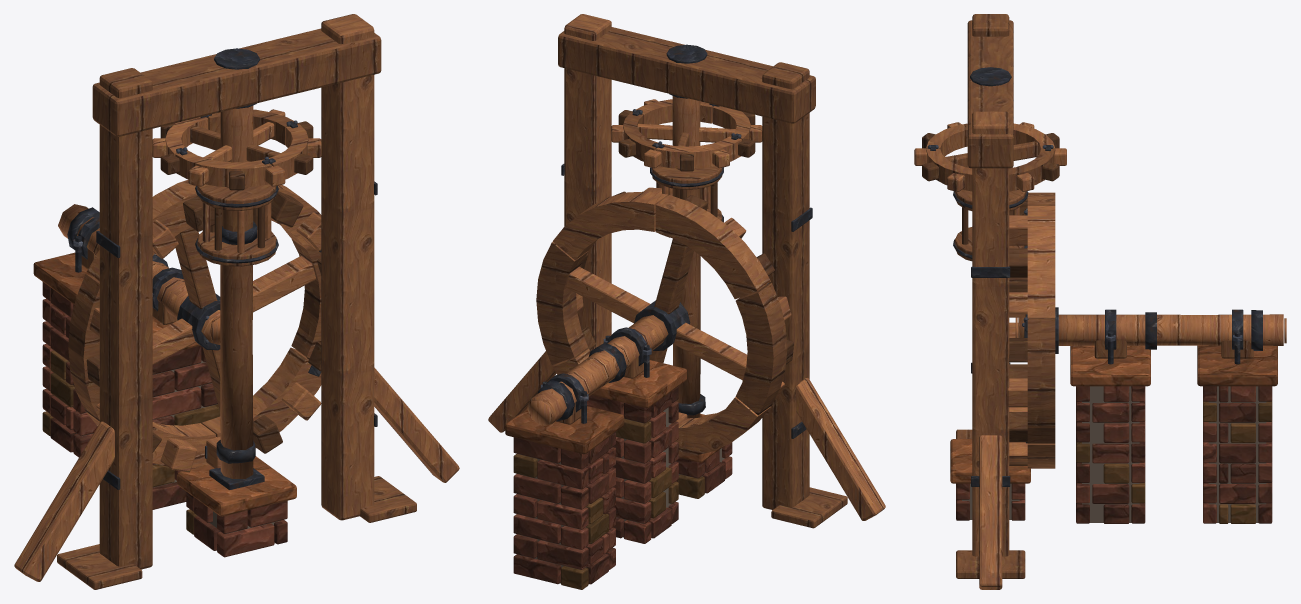
Rendered from hw_gear_train.glb.
3 views of the same model, side by side, from view 1: azimuth 30°, elevation 25°; view 2: azimuth 150°, elevation 25°; view 3: azimuth 270°, elevation 25° (orthographic). The views are drawn at different scales.
Visible parts, largest first — view 1: model; view 2: model; view 3: model.
Part boxes in pixels (left/top/right/bottom): model: left=14, top=14, right=459, bottom=589; model: left=488, top=14, right=885, bottom=589; model: left=914, top=14, right=1286, bottom=589.
Size of the model in its own units: 1.96 by 2.1 by 1.61.
15 materials, 14 textured.
